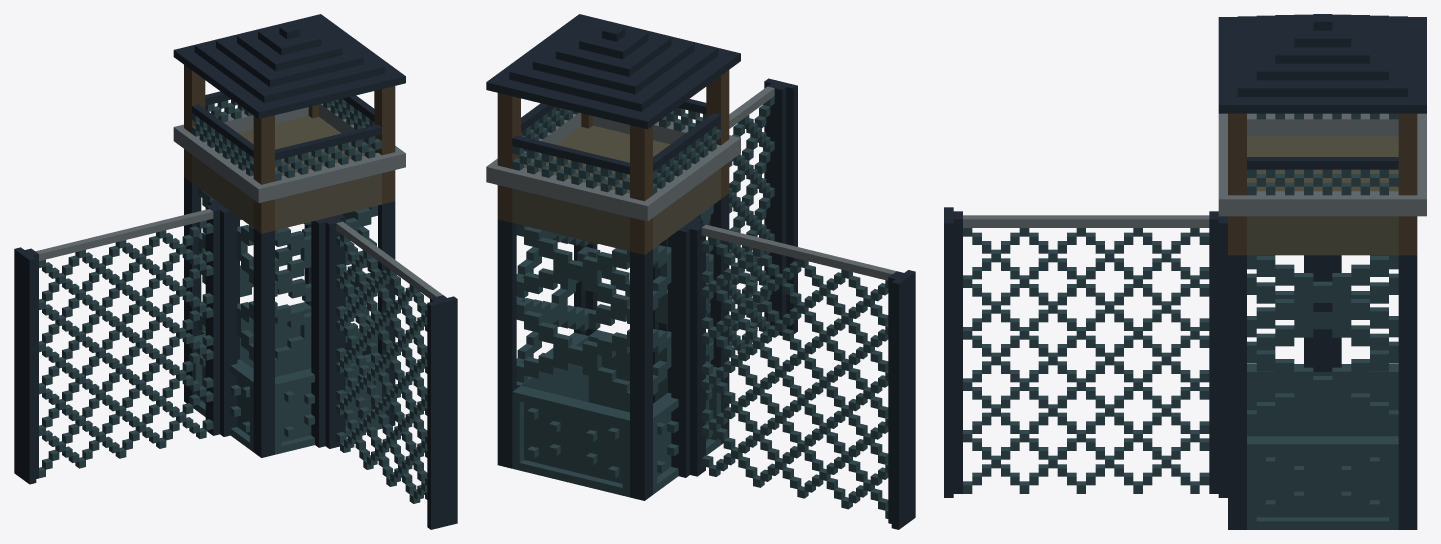
Rendered from wall3_corner.obj.
The picture shows the model from 3 angles, left to right: view 1: azimuth 30°, elevation 25°; view 2: azimuth 150°, elevation 25°; view 3: azimuth 270°, elevation 25°; orthographic projection. The views are drawn at different scales.
Bounding box in the file's own units: 5.1 × 5.5 × 5.1.
1 material, 1 textured.
